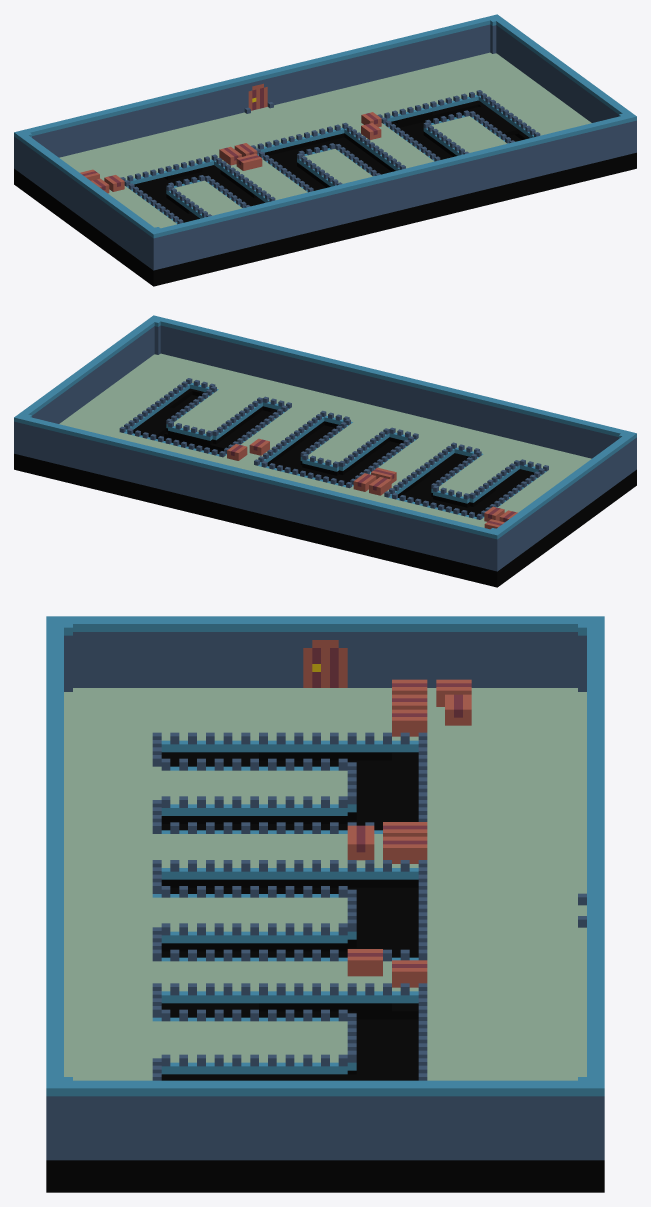
File: hab1.7.obj
The picture shows the model from 3 angles, top to bottom: view 1: azimuth 30°, elevation 25°; view 2: azimuth 150°, elevation 25°; view 3: azimuth 270°, elevation 25°; orthographic projection. The views are drawn at different scales.
Bounding box in the file's own units: 126 × 13 × 63.
Materials: 1 (1 with a texture image).
